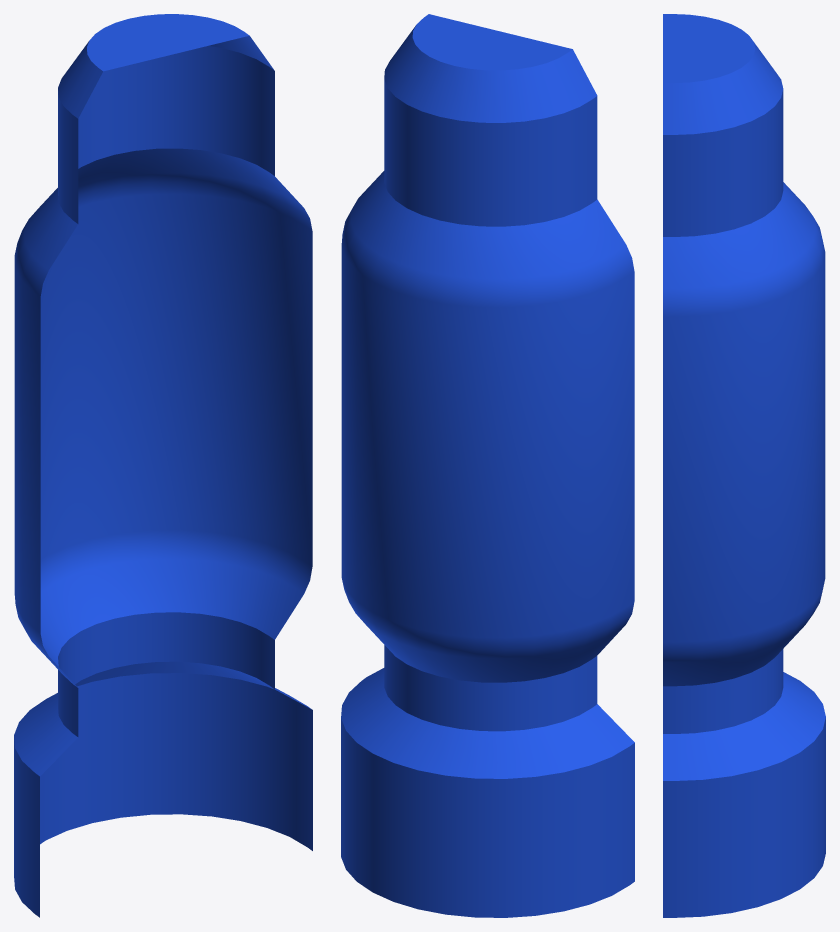
The model's file is Wall_B_4_2.fbx.
3 renders of one model, left to right at view 1: azimuth 30°, elevation 25°; view 2: azimuth 150°, elevation 25°; view 3: azimuth 270°, elevation 25°, orthographic. The views are drawn at different scales.
Parts seen in each view (by area): view 1: Wall_4_2; view 2: Wall_4_2; view 3: Wall_4_2.
Part boxes in pixels (left/top/right/bottom): Wall_4_2: left=14, top=14, right=312, bottom=917; Wall_4_2: left=341, top=14, right=634, bottom=917; Wall_4_2: left=663, top=14, right=825, bottom=917.
Bounding box in the file's own units: 0.6871 × 2 × 0.3668.
